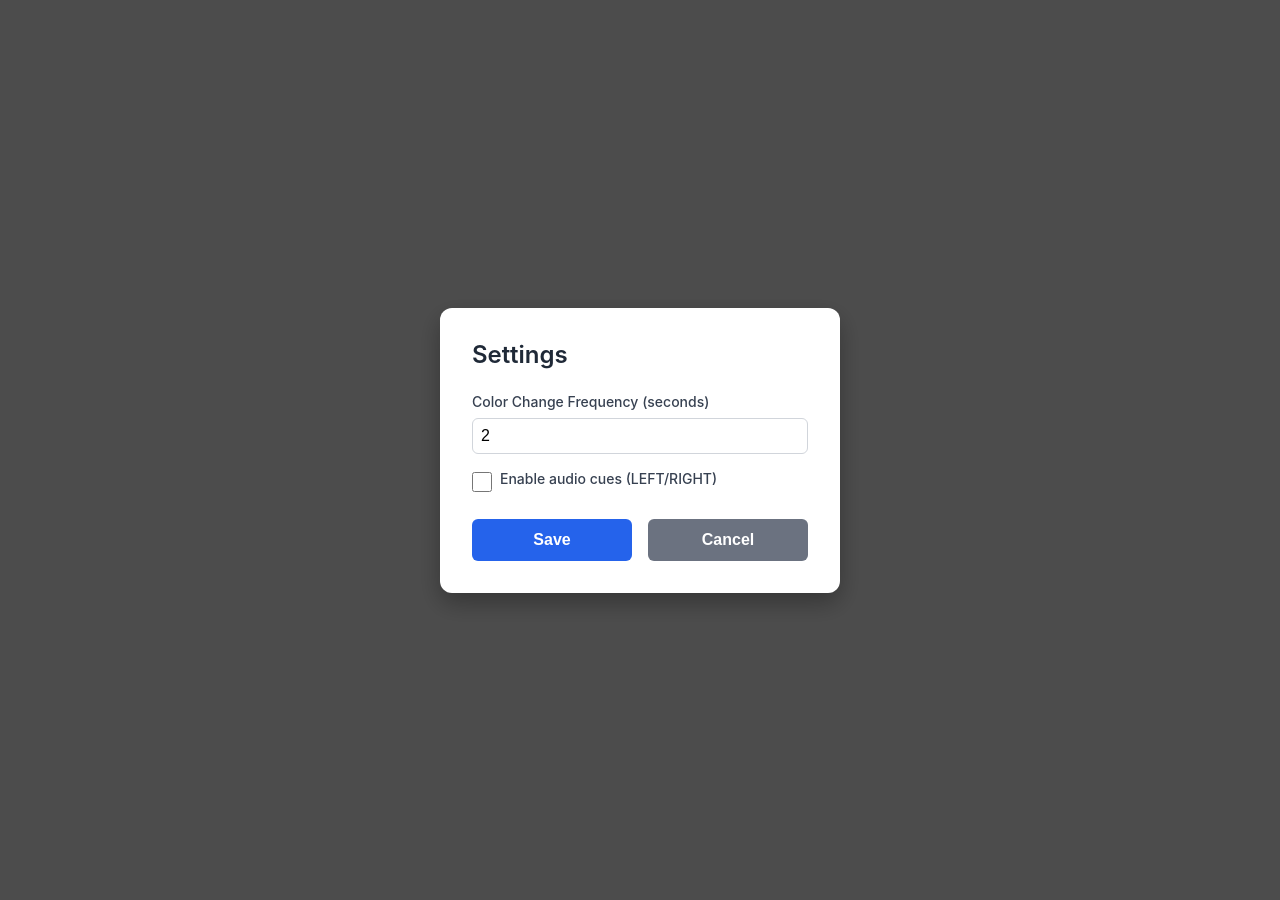
SettingsDialog › should validate frequency range
# Enter invalid frequency (too high)
Replace the text in the number field labelled "Color Change Frequency (seconds)" with "100": point(640, 436) [472,418,808,454]
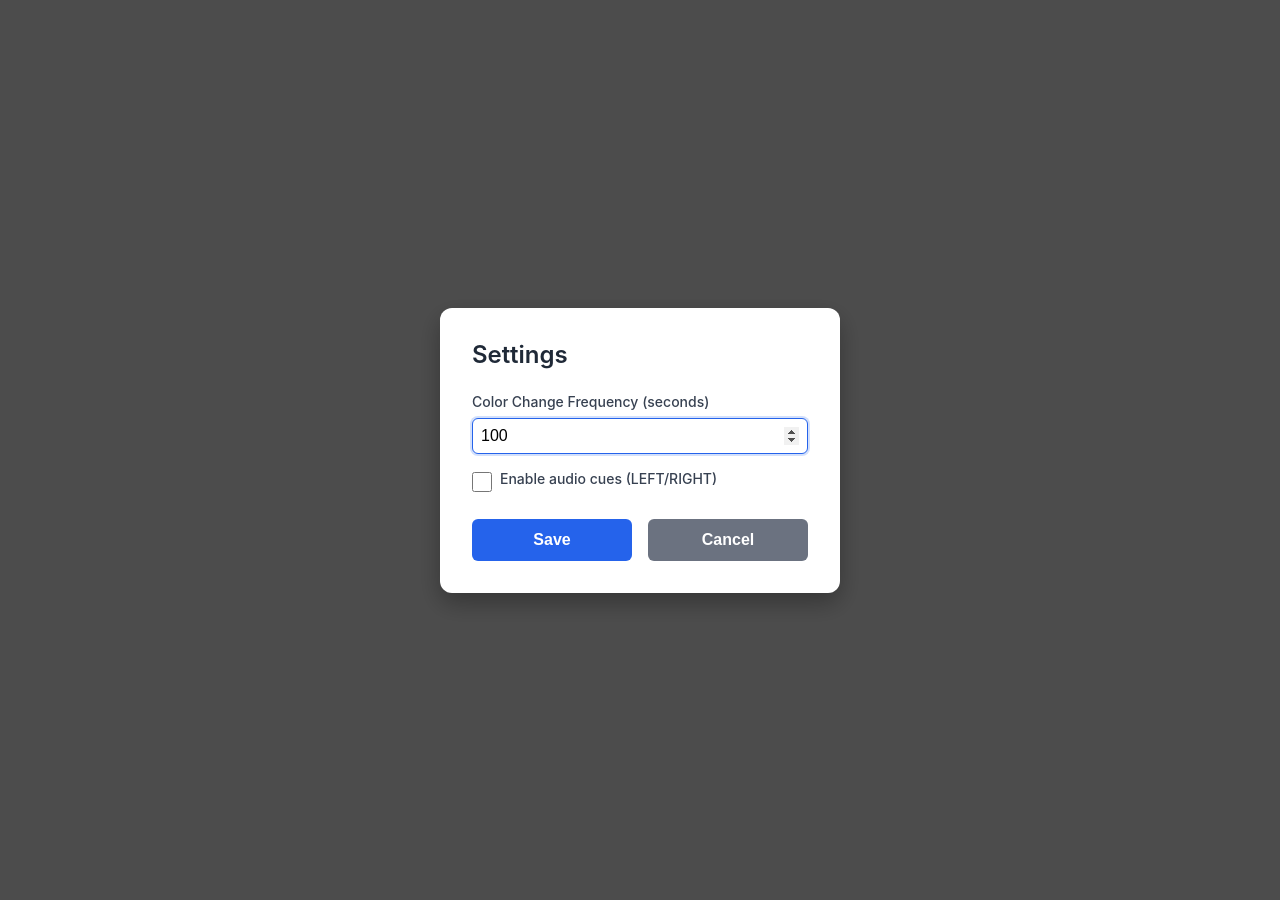
# Try to save
Click the button "Save": point(552, 540) [472,518,632,560]
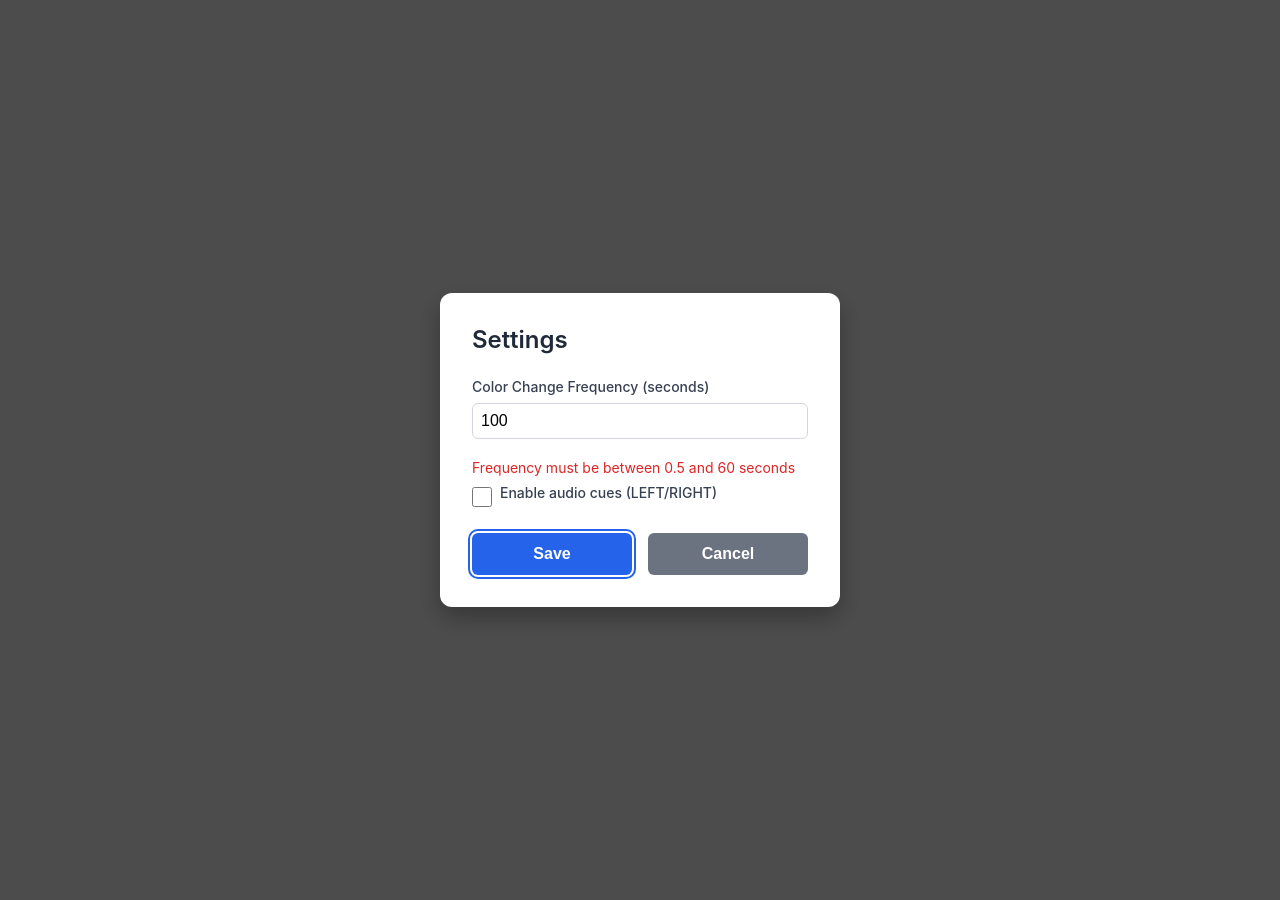
Now the text "Frequency must be between 0.5 and 60 seconds" is shown, box [472,459,808,476]
